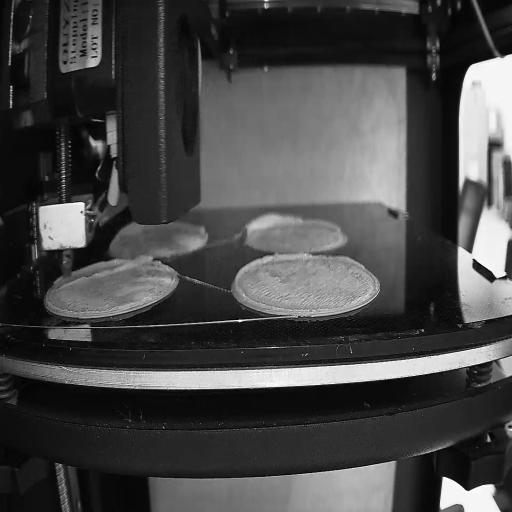over_extrusion: (234, 252, 312, 314), (59, 252, 153, 291), (238, 207, 300, 244), (303, 216, 342, 233), (333, 254, 369, 272)
